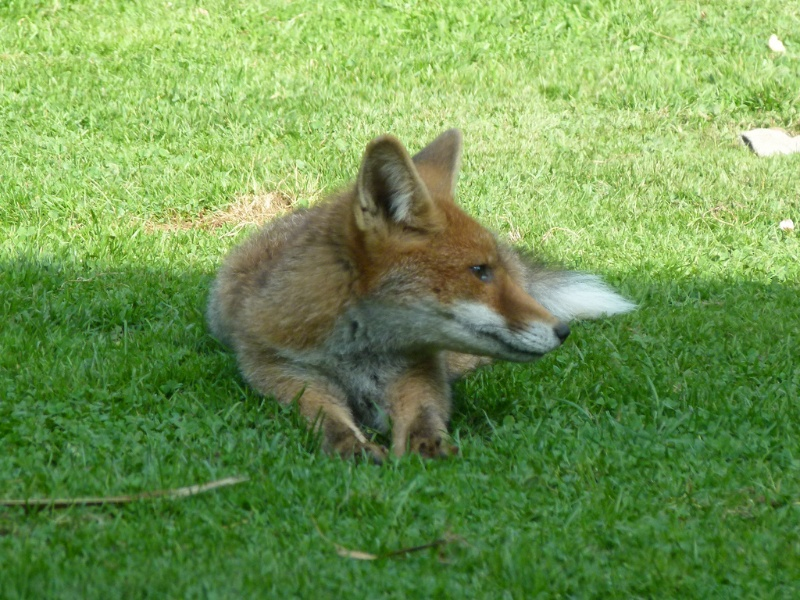fox: (206, 120, 649, 473)
